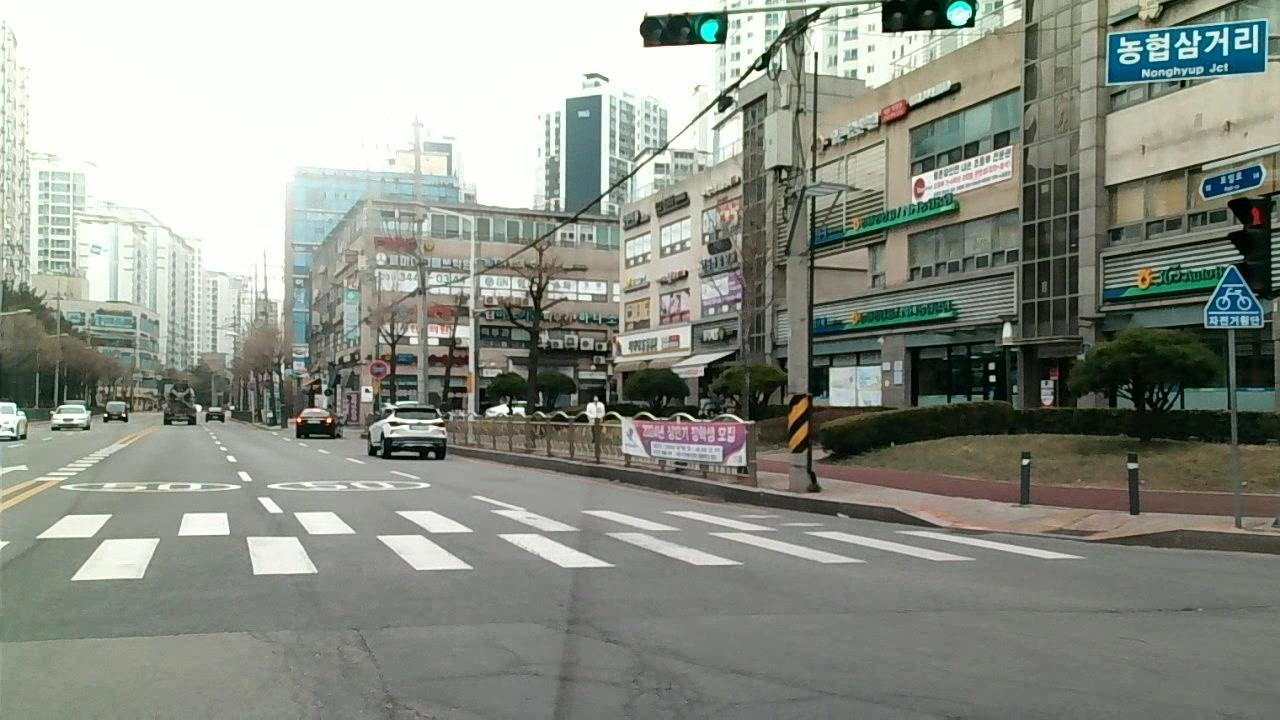hcrack: (18, 623, 254, 643), (1025, 603, 1262, 617), (483, 654, 593, 678)
vcrack: (350, 625, 420, 720), (799, 682, 937, 710), (615, 641, 648, 719)
